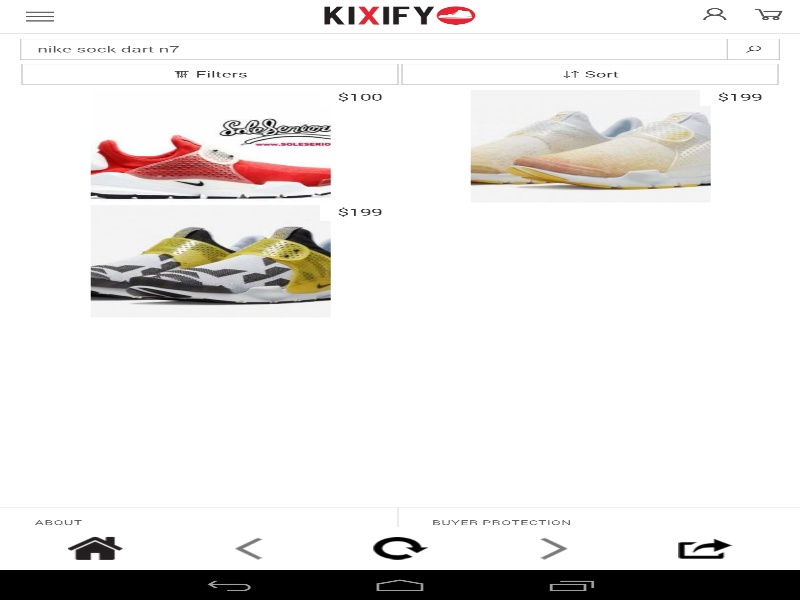Button: (742, 1, 796, 27), (689, 1, 742, 27), (726, 38, 780, 60)
Input: (20, 38, 734, 60)
